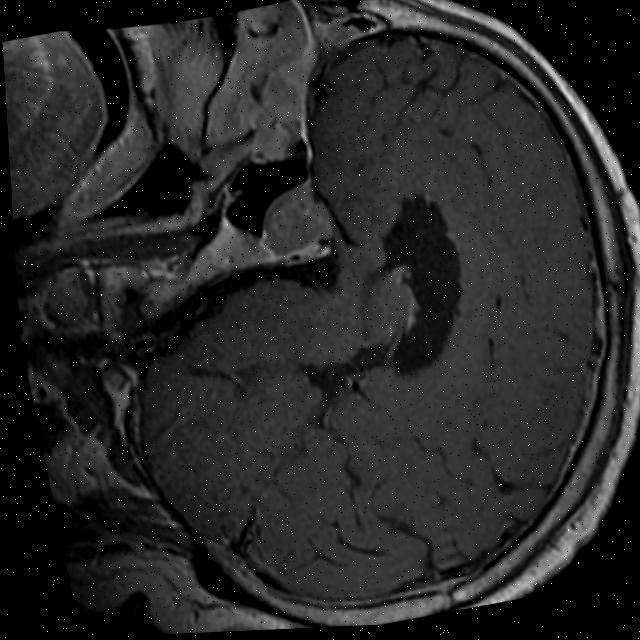Pituitary: (251, 179, 337, 259)
